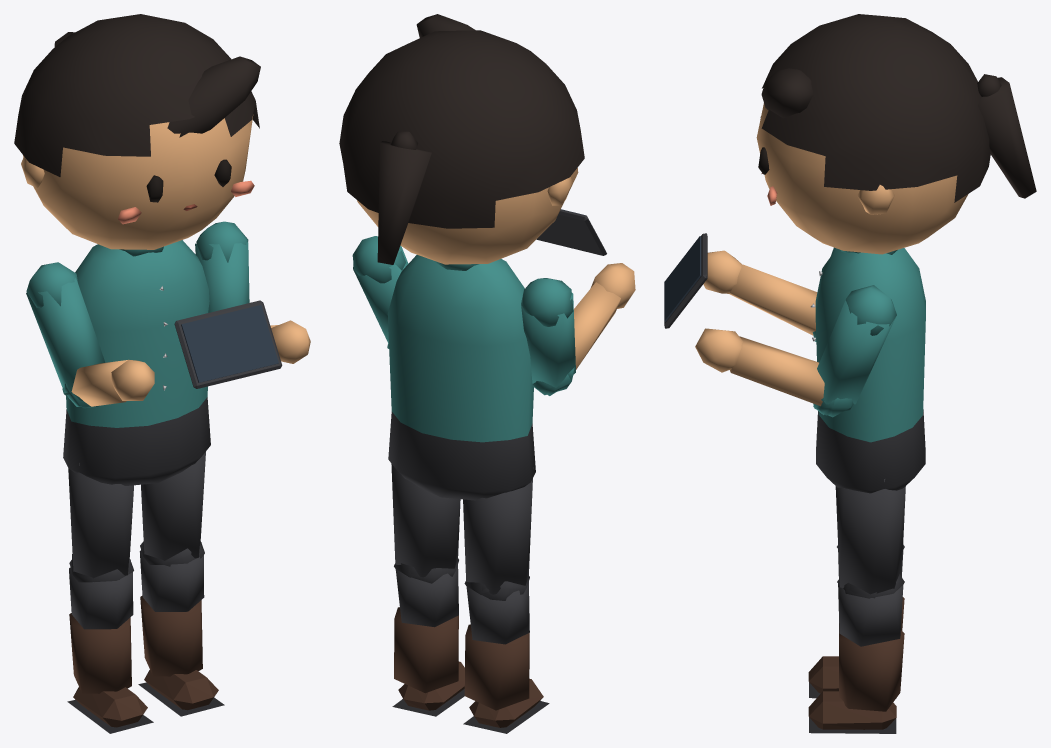
The model's file is era5_tablet_woman.glb.
3 views of the same model, side by side, from view 1: azimuth 30°, elevation 25°; view 2: azimuth 150°, elevation 25°; view 3: azimuth 270°, elevation 25° (orthographic).
Parts seen in each view (by area): view 1: head, body, shin_L, shin_R, prop_tablet, leg_R, arm_R, leg_L, arm_L, forearm_R, forearm_L; view 2: head, body, shin_R, shin_L, leg_R, leg_L, arm_R, forearm_R, arm_L, prop_tablet; view 3: head, body, shin_L, leg_L, arm_L, forearm_L, forearm_R, prop_tablet, shin_R.
Part boxes in pixels (left/top/right/bottom): head: left=14, top=14, right=260, bottom=249; body: left=63, top=240, right=210, bottom=485; shin_L: left=138, top=541, right=224, bottom=716; shin_R: left=67, top=558, right=153, bottom=733; prop_tablet: left=174, top=300, right=282, bottom=388; leg_R: left=68, top=463, right=133, bottom=582; arm_R: left=26, top=262, right=105, bottom=408; leg_L: left=140, top=452, right=205, bottom=566; arm_L: left=195, top=221, right=249, bottom=312; forearm_R: left=64, top=359, right=154, bottom=407; forearm_L: left=270, top=320, right=310, bottom=363; head: left=339, top=14, right=584, bottom=264; body: left=387, top=255, right=535, bottom=500; shin_R: left=463, top=581, right=549, bottom=733; shin_L: left=392, top=563, right=464, bottom=716; leg_R: left=463, top=467, right=533, bottom=600; leg_L: left=391, top=463, right=460, bottom=581; arm_R: left=521, top=278, right=575, bottom=395; forearm_R: left=533, top=263, right=635, bottom=395; arm_L: left=352, top=236, right=408, bottom=348; prop_tablet: left=536, top=209, right=606, bottom=255; head: left=756, top=14, right=1036, bottom=254; body: left=810, top=248, right=925, bottom=493; shin_L: left=808, top=574, right=904, bottom=733; leg_L: left=835, top=479, right=905, bottom=598; arm_L: left=813, top=285, right=896, bottom=417; forearm_L: left=695, top=328, right=851, bottom=415; forearm_R: left=703, top=250, right=817, bottom=341; prop_tablet: left=664, top=233, right=707, bottom=328; shin_R: left=808, top=549, right=904, bottom=698.
Bounding box in the file's own units: 0.4966 × 1.46 × 0.7194.
